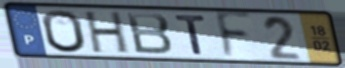2: (262, 14, 306, 62)
B: (124, 11, 176, 57)
F: (213, 10, 255, 62)
H: (84, 11, 131, 56)
O: (39, 8, 89, 54)
T: (173, 14, 209, 57)
